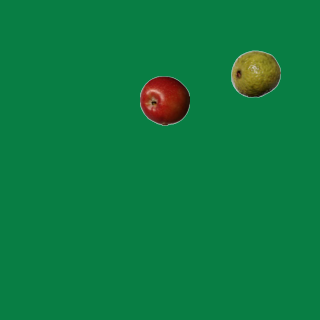Apple Braeburn: (139, 75, 189, 125)
Guava: (230, 48, 280, 98)
